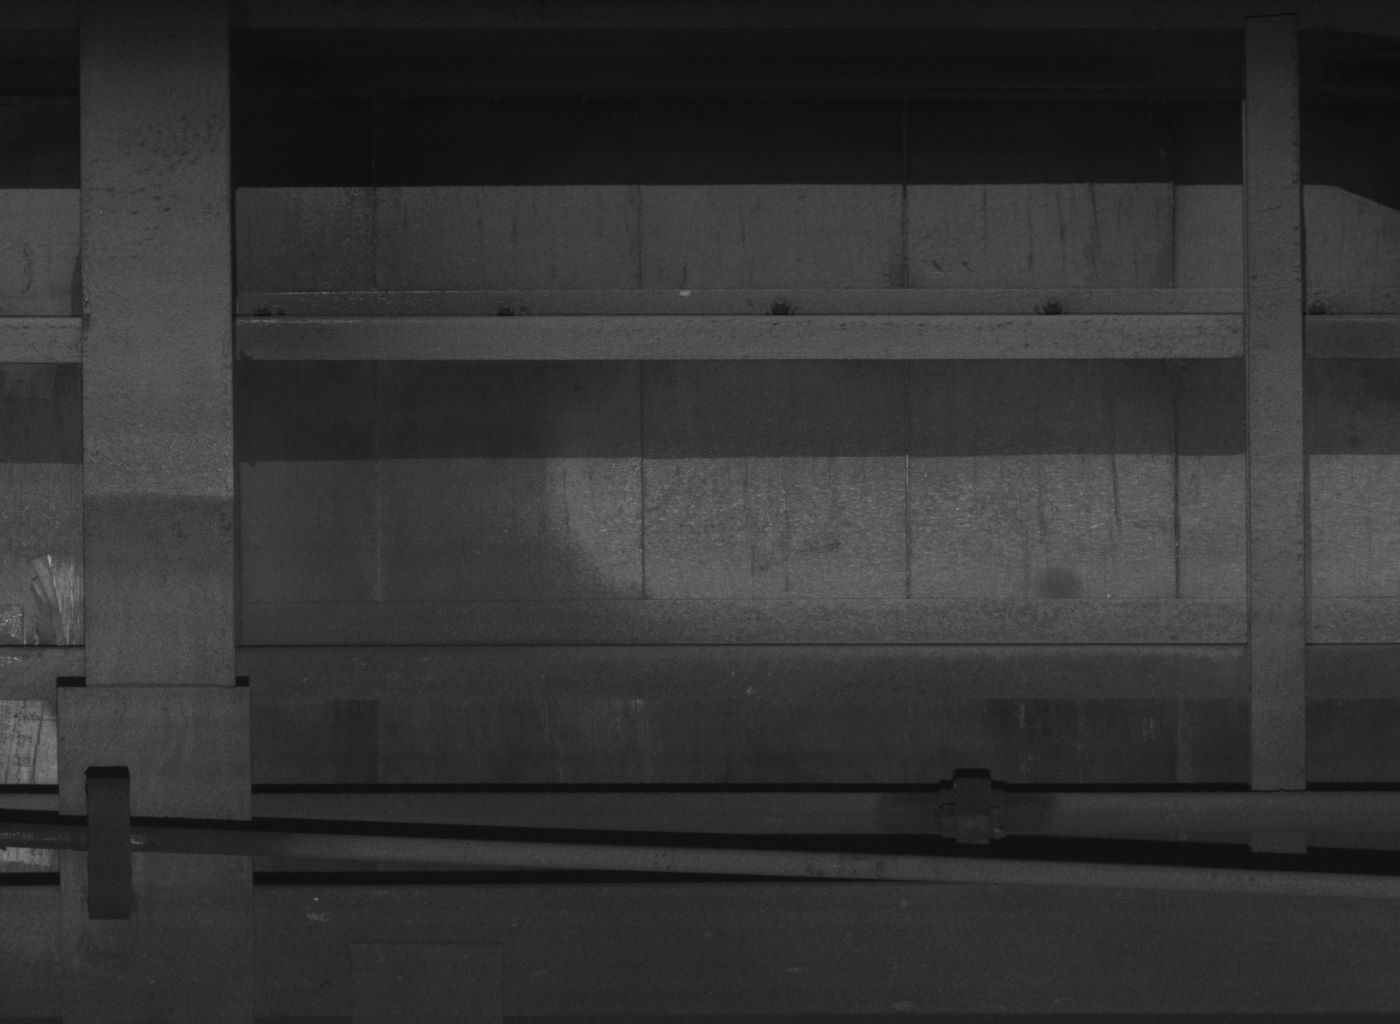normal: (82, 778, 137, 920)
